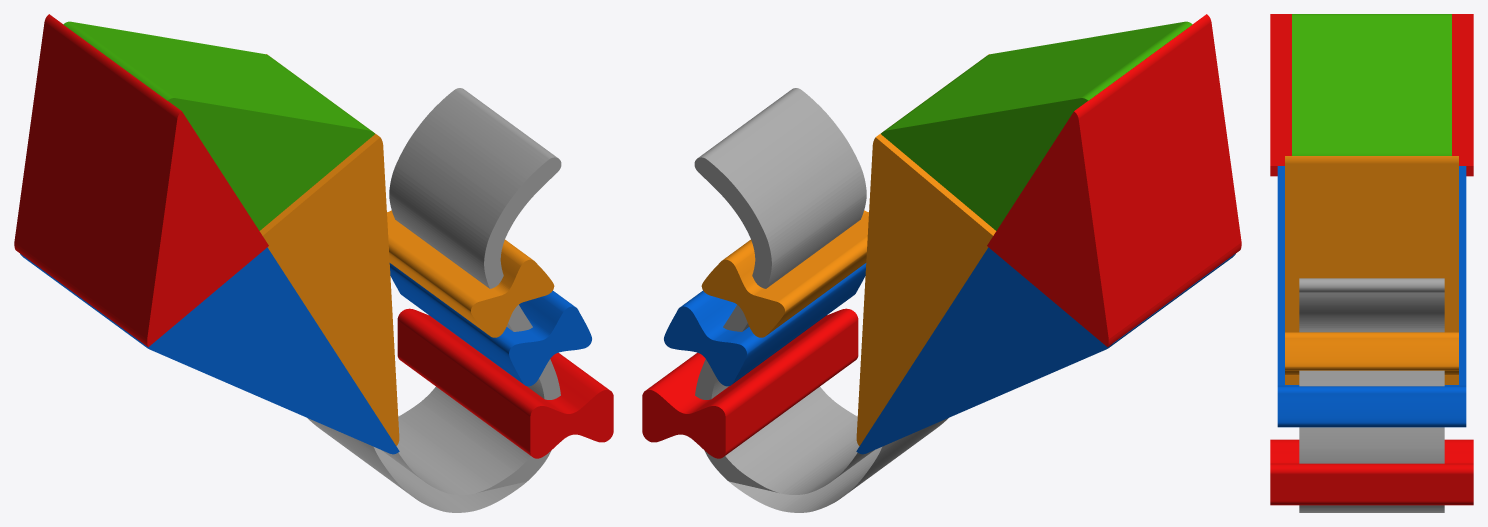
3 views of the same model, side by side, from view 1: azimuth 30°, elevation 25°; view 2: azimuth 150°, elevation 25°; view 3: azimuth 270°, elevation 25° (orthographic). The views are drawn at different scales.
Parts seen in each view (by area): view 1: U+1FA81_layer04_obj00, U+1FA81_layer00_obj00, U+1FA81_layer02_obj00, U+1FA81_layer03_obj00, U+1FA81_layer01_obj00; view 2: U+1FA81_layer04_obj00, U+1FA81_layer00_obj00, U+1FA81_layer02_obj00, U+1FA81_layer03_obj00, U+1FA81_layer01_obj00; view 3: U+1FA81_layer02_obj00, U+1FA81_layer01_obj00, U+1FA81_layer00_obj00, U+1FA81_layer04_obj00, U+1FA81_layer03_obj00.
Part boxes in pixels (x1=…): U+1FA81_layer04_obj00: x1=14, y1=14, x2=613, y2=458; U+1FA81_layer00_obj00: x1=307, y1=88, x2=561, y2=512; U+1FA81_layer02_obj00: x1=259, y1=54, x2=554, y2=445; U+1FA81_layer03_obj00: x1=20, y1=247, x2=591, y2=454; U+1FA81_layer01_obj00: x1=63, y1=21, x2=374, y2=230; U+1FA81_layer04_obj00: x1=642, y1=14, x2=1241, y2=458; U+1FA81_layer00_obj00: x1=694, y1=88, x2=948, y2=512; U+1FA81_layer02_obj00: x1=701, y1=54, x2=996, y2=445; U+1FA81_layer03_obj00: x1=664, y1=247, x2=1235, y2=454; U+1FA81_layer01_obj00: x1=881, y1=21, x2=1192, y2=230; U+1FA81_layer02_obj00: x1=1285, y1=156, x2=1458, y2=384; U+1FA81_layer01_obj00: x1=1292, y1=14, x2=1451, y2=155; U+1FA81_layer00_obj00: x1=1299, y1=278, x2=1444, y2=512; U+1FA81_layer04_obj00: x1=1270, y1=14, x2=1473, y2=505; U+1FA81_layer03_obj00: x1=1277, y1=166, x2=1466, y2=427.
Size of the model in its own units: 0.5678 by 0.5714 by 0.28.
